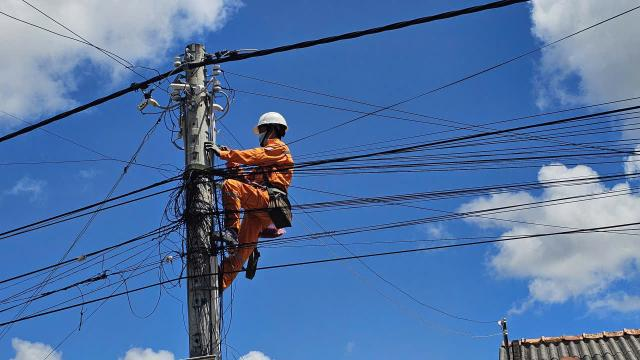gloves: (197, 140, 228, 161)
harness: (255, 184, 304, 205)
helmet: (250, 110, 292, 132)
shoes: (205, 226, 242, 250)
